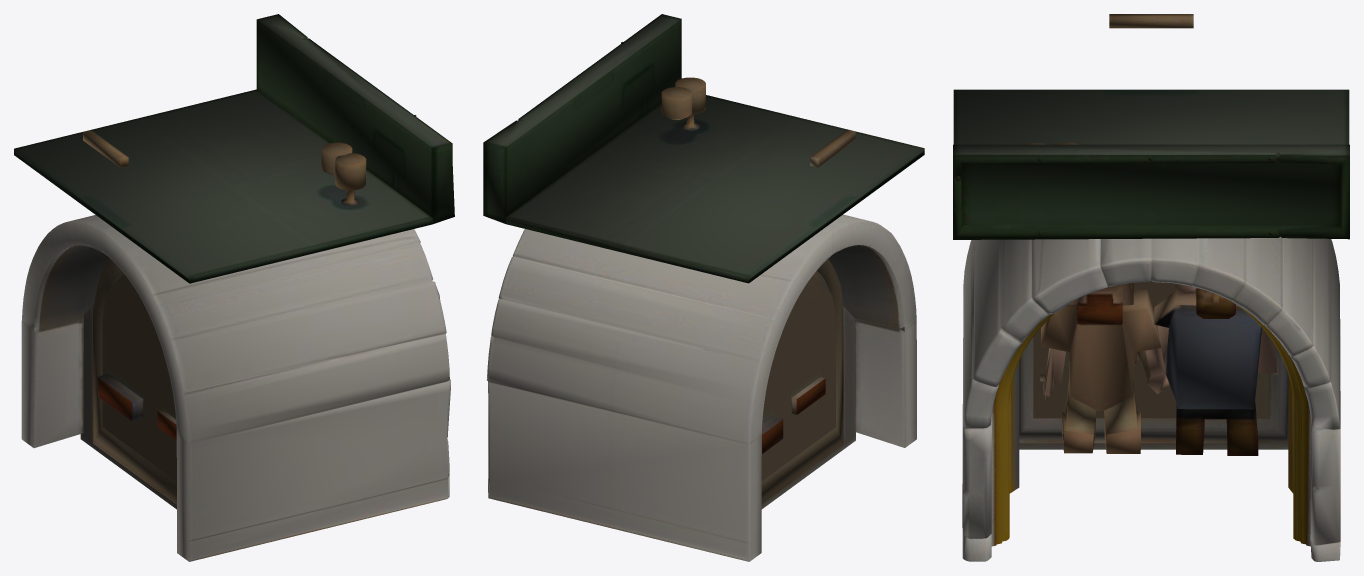
3 renders of one model, left to right at view 1: azimuth 30°, elevation 25°; view 2: azimuth 150°, elevation 25°; view 3: azimuth 270°, elevation 25°, orthographic. The views are drawn at different scales.
Bounding box in the file's own units: 0.7749 × 0.9995 × 0.8784.
Materials: 1 (1 with a texture image).
